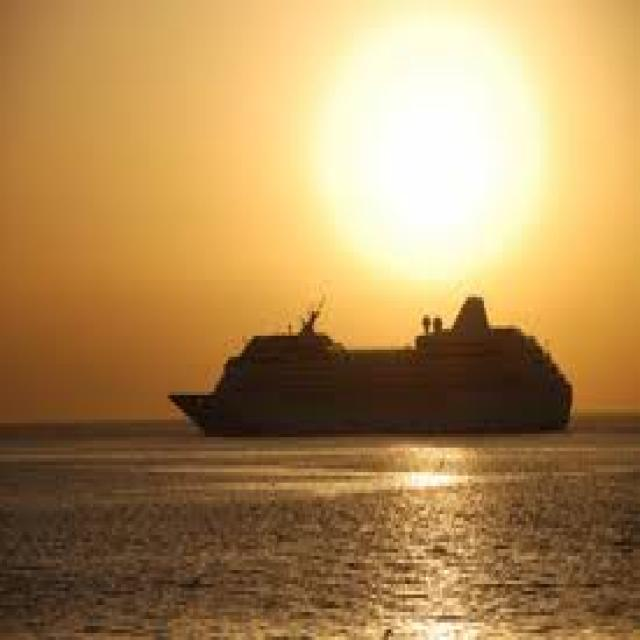passenger ship: (158, 289, 570, 437)
